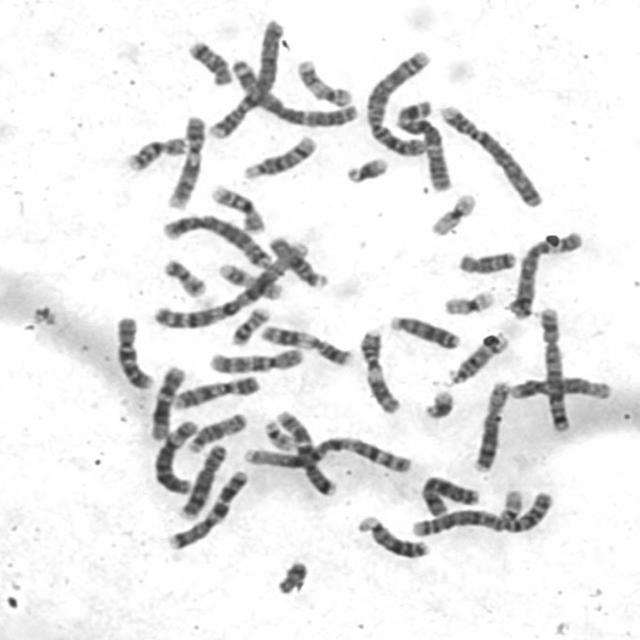A1: (152, 241, 310, 331), (242, 436, 412, 473)
A2: (365, 49, 434, 160), (410, 490, 554, 539)
A3: (229, 59, 360, 128), (395, 100, 453, 193)
B4: (438, 104, 545, 212), (207, 17, 285, 140)
B5: (161, 214, 273, 270), (537, 304, 572, 433)
C10: (113, 314, 155, 391), (207, 346, 305, 377)
C11: (260, 323, 356, 367), (358, 327, 402, 417)
C12: (149, 364, 189, 442), (508, 378, 612, 400)
C6: (506, 227, 585, 320), (154, 419, 200, 495)
C7: (166, 468, 252, 551), (276, 407, 339, 495)
C8: (180, 442, 229, 520), (474, 379, 513, 473)
C9: (167, 114, 204, 211), (170, 374, 262, 412)
D13: (356, 514, 431, 561), (386, 312, 463, 350)
D14: (240, 130, 322, 182), (450, 330, 509, 386)
D15: (266, 236, 331, 288), (187, 412, 249, 456)
E16: (208, 184, 265, 234), (124, 136, 186, 172)
E17: (295, 54, 356, 108), (218, 263, 282, 301)
E18: (185, 39, 234, 87), (455, 248, 517, 276)
F19: (429, 192, 478, 237), (444, 287, 497, 321)
F20: (163, 258, 210, 301), (231, 308, 273, 347)
G21: (342, 155, 391, 185), (422, 386, 454, 424)
G22: (264, 418, 297, 452), (496, 486, 525, 524)
X: (417, 472, 481, 518)
Y: (273, 557, 312, 596)
